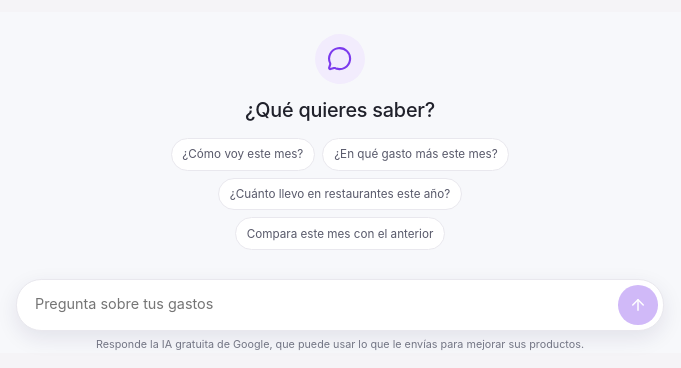
Test: Chat › sends the conversation with the session token and shows the answer
Expected: the text "IA gratuita de Google" is shown, [96,338,584,351]
What coordinates should you click on to do the following:
click the button "¿Cómo voy este mes?"
I would click on:
 (243, 154)
Its box is [170,138,315,171].
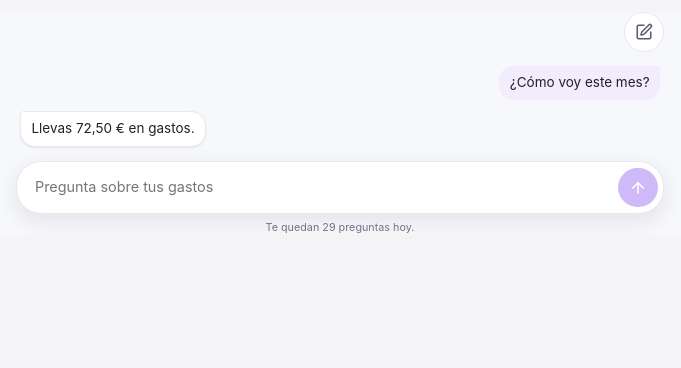
Now the text "Llevas 72,50 € en gastos." is shown, box [20,111,206,147]
Now the text "Te quedan 29 preguntas hoy." is shown, box [266,221,414,234]
